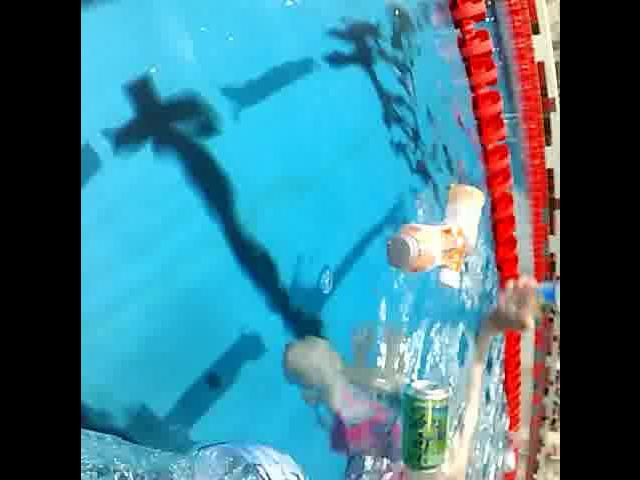Bottle: (81, 428, 322, 480), (436, 177, 488, 295), (381, 220, 467, 278)
Can: (396, 369, 451, 479)
